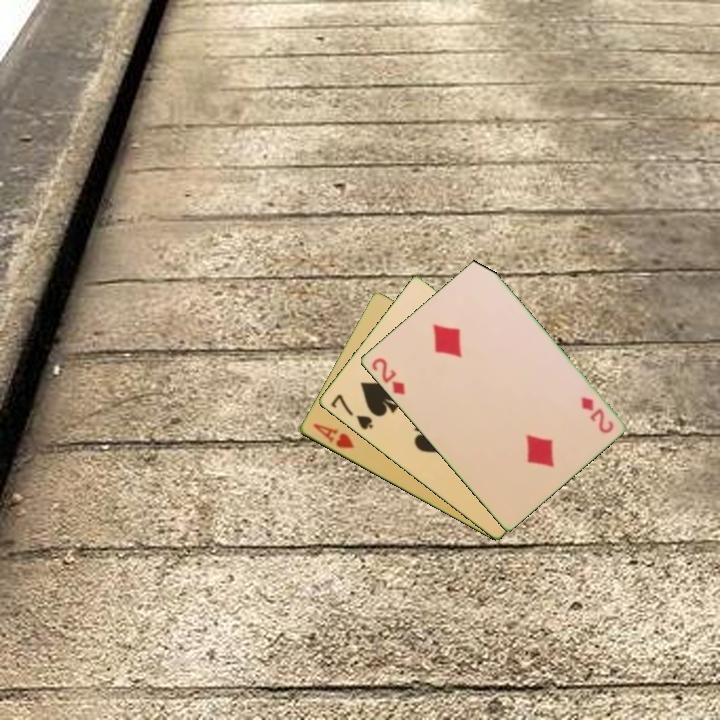2d: (368, 354, 408, 398), (577, 393, 616, 436)
7s: (327, 390, 376, 433)
Ah: (309, 420, 357, 452)
